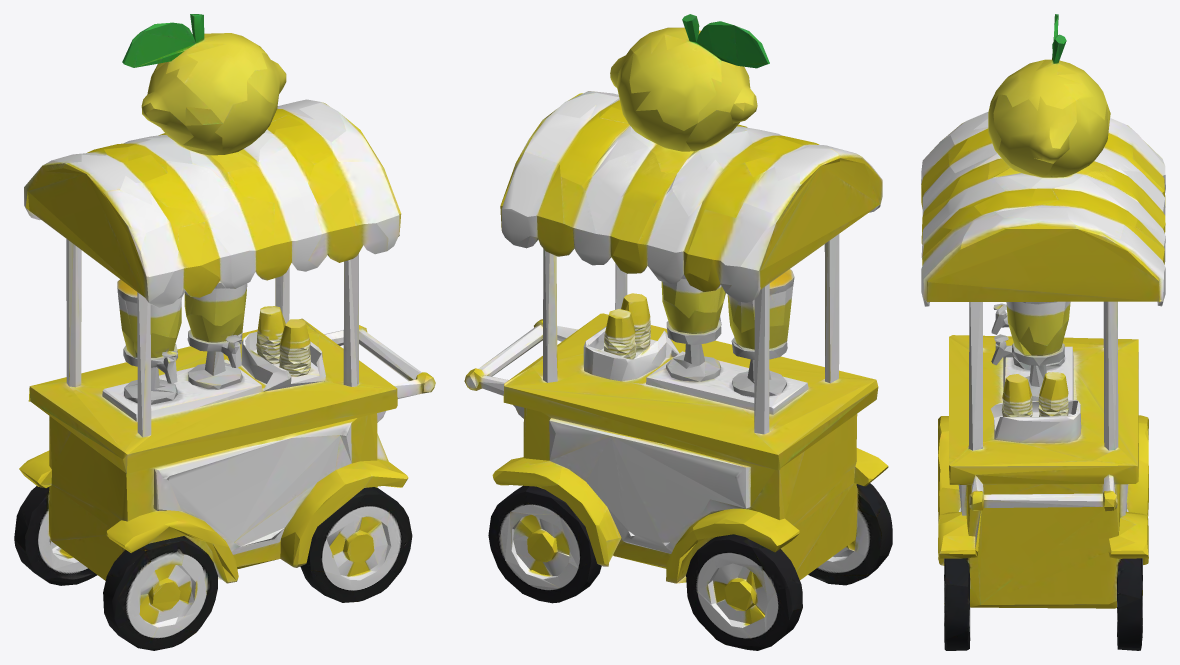
Rendered from lemon_cart.glb.
3 renders of one model, left to right at view 1: azimuth 30°, elevation 25°; view 2: azimuth 150°, elevation 25°; view 3: azimuth 270°, elevation 25°, orthographic. The views are drawn at different scales.
Size of the model in its own units: 3 by 4.88 by 1.94.
1 material, 1 textured.
